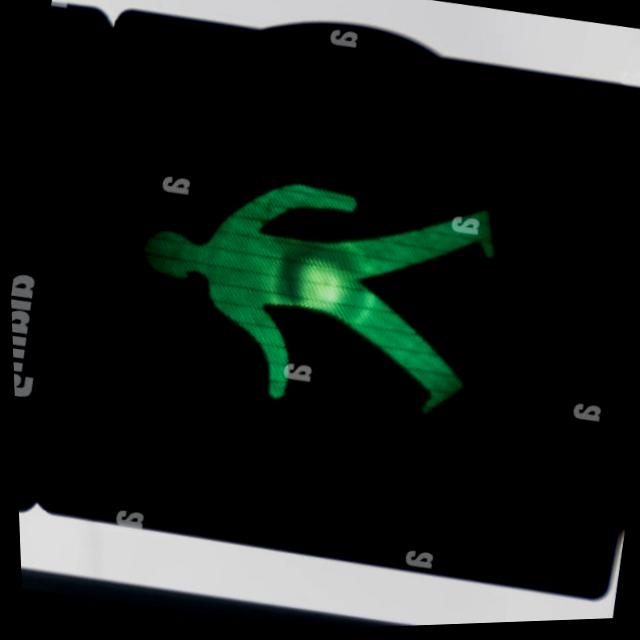green_light: (109, 163, 497, 430)
